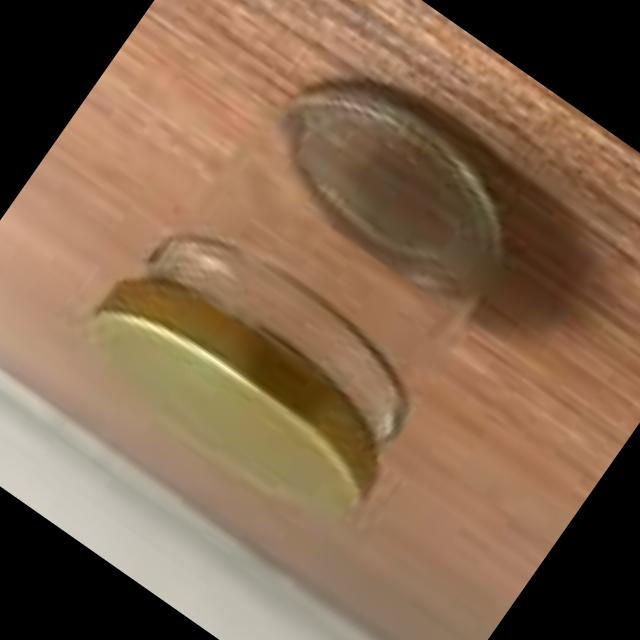ToplesKaca: (48, 7, 590, 570)
